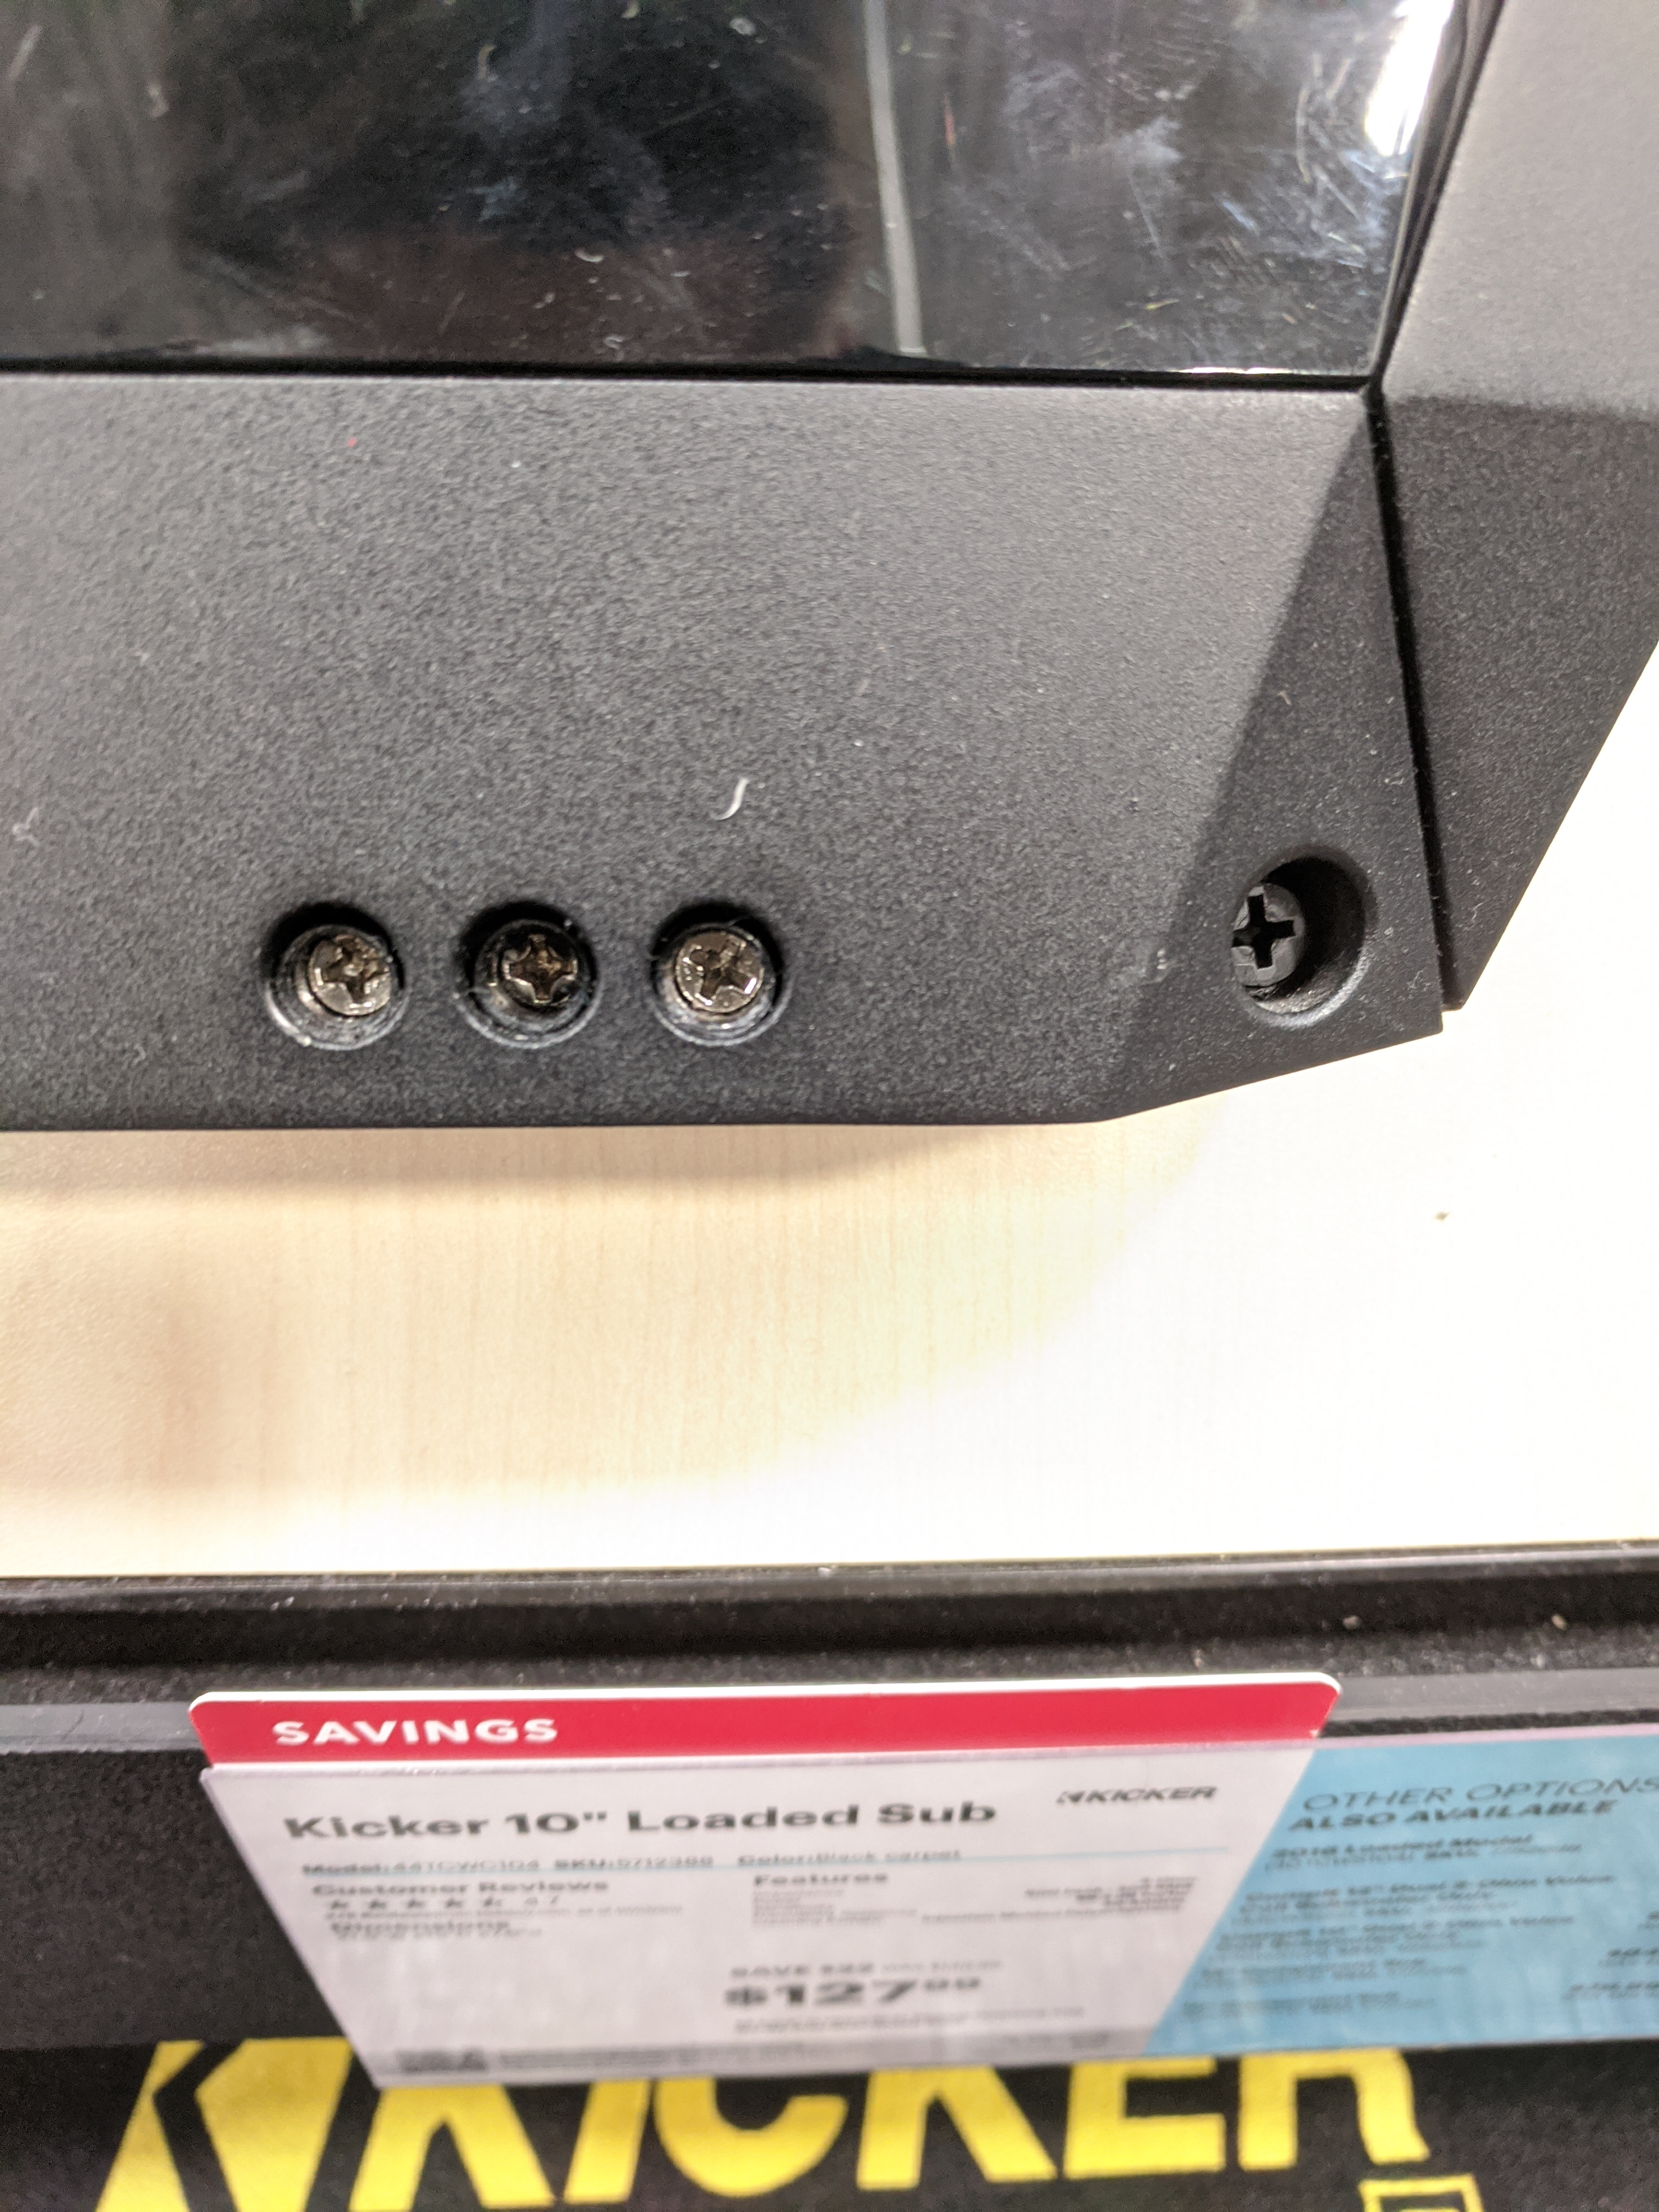cross_recessed_screw: (451, 899, 591, 1029), (253, 906, 397, 1026), (641, 907, 765, 1038), (1213, 862, 1331, 981)
